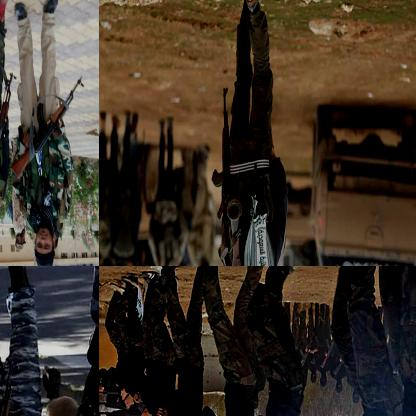rifle: (39, 266, 98, 415), (11, 71, 85, 181), (209, 85, 235, 258), (0, 70, 20, 199), (225, 199, 250, 265), (99, 395, 152, 415), (99, 402, 175, 415)
